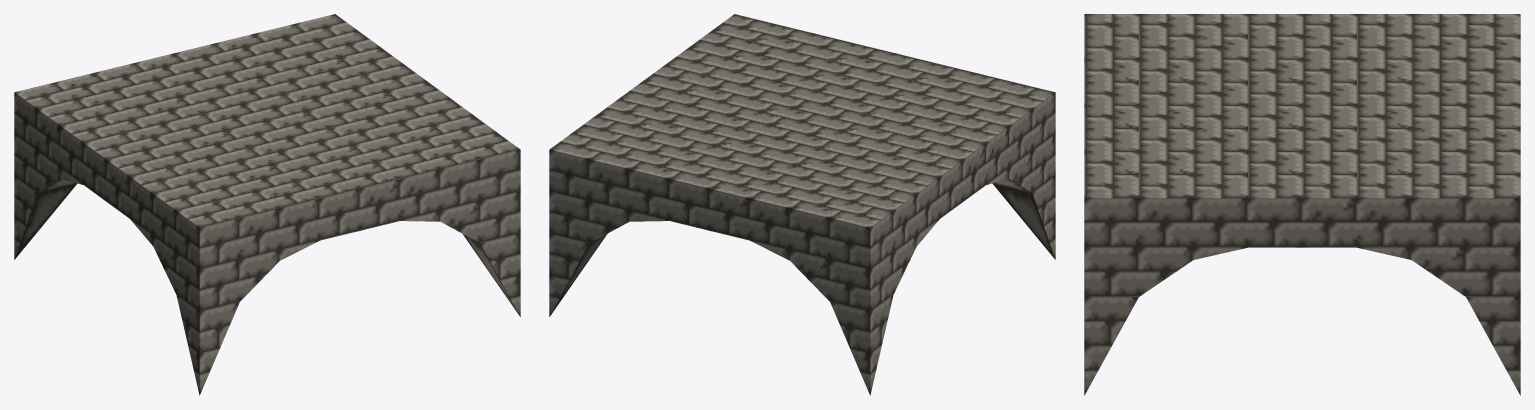
Rendered from Ceiling_Arch_Wide_Cross.fbx.
The picture shows the model from 3 angles, left to right: view 1: azimuth 30°, elevation 25°; view 2: azimuth 150°, elevation 25°; view 3: azimuth 270°, elevation 25°; orthographic projection. The views are drawn at different scales.
Parts seen in each view (by area): view 1: Ceiling_Arch_Wide_Cross; view 2: Ceiling_Arch_Wide_Cross; view 3: Ceiling_Arch_Wide_Cross.
Part boxes in pixels (bbox=[...]): Ceiling_Arch_Wide_Cross: bbox=[14, 14, 520, 395]; Ceiling_Arch_Wide_Cross: bbox=[549, 14, 1055, 395]; Ceiling_Arch_Wide_Cross: bbox=[1084, 14, 1520, 395].
Size of the model in its own units: 800 by 400 by 800.
Materials: 1 (1 with a texture image).
